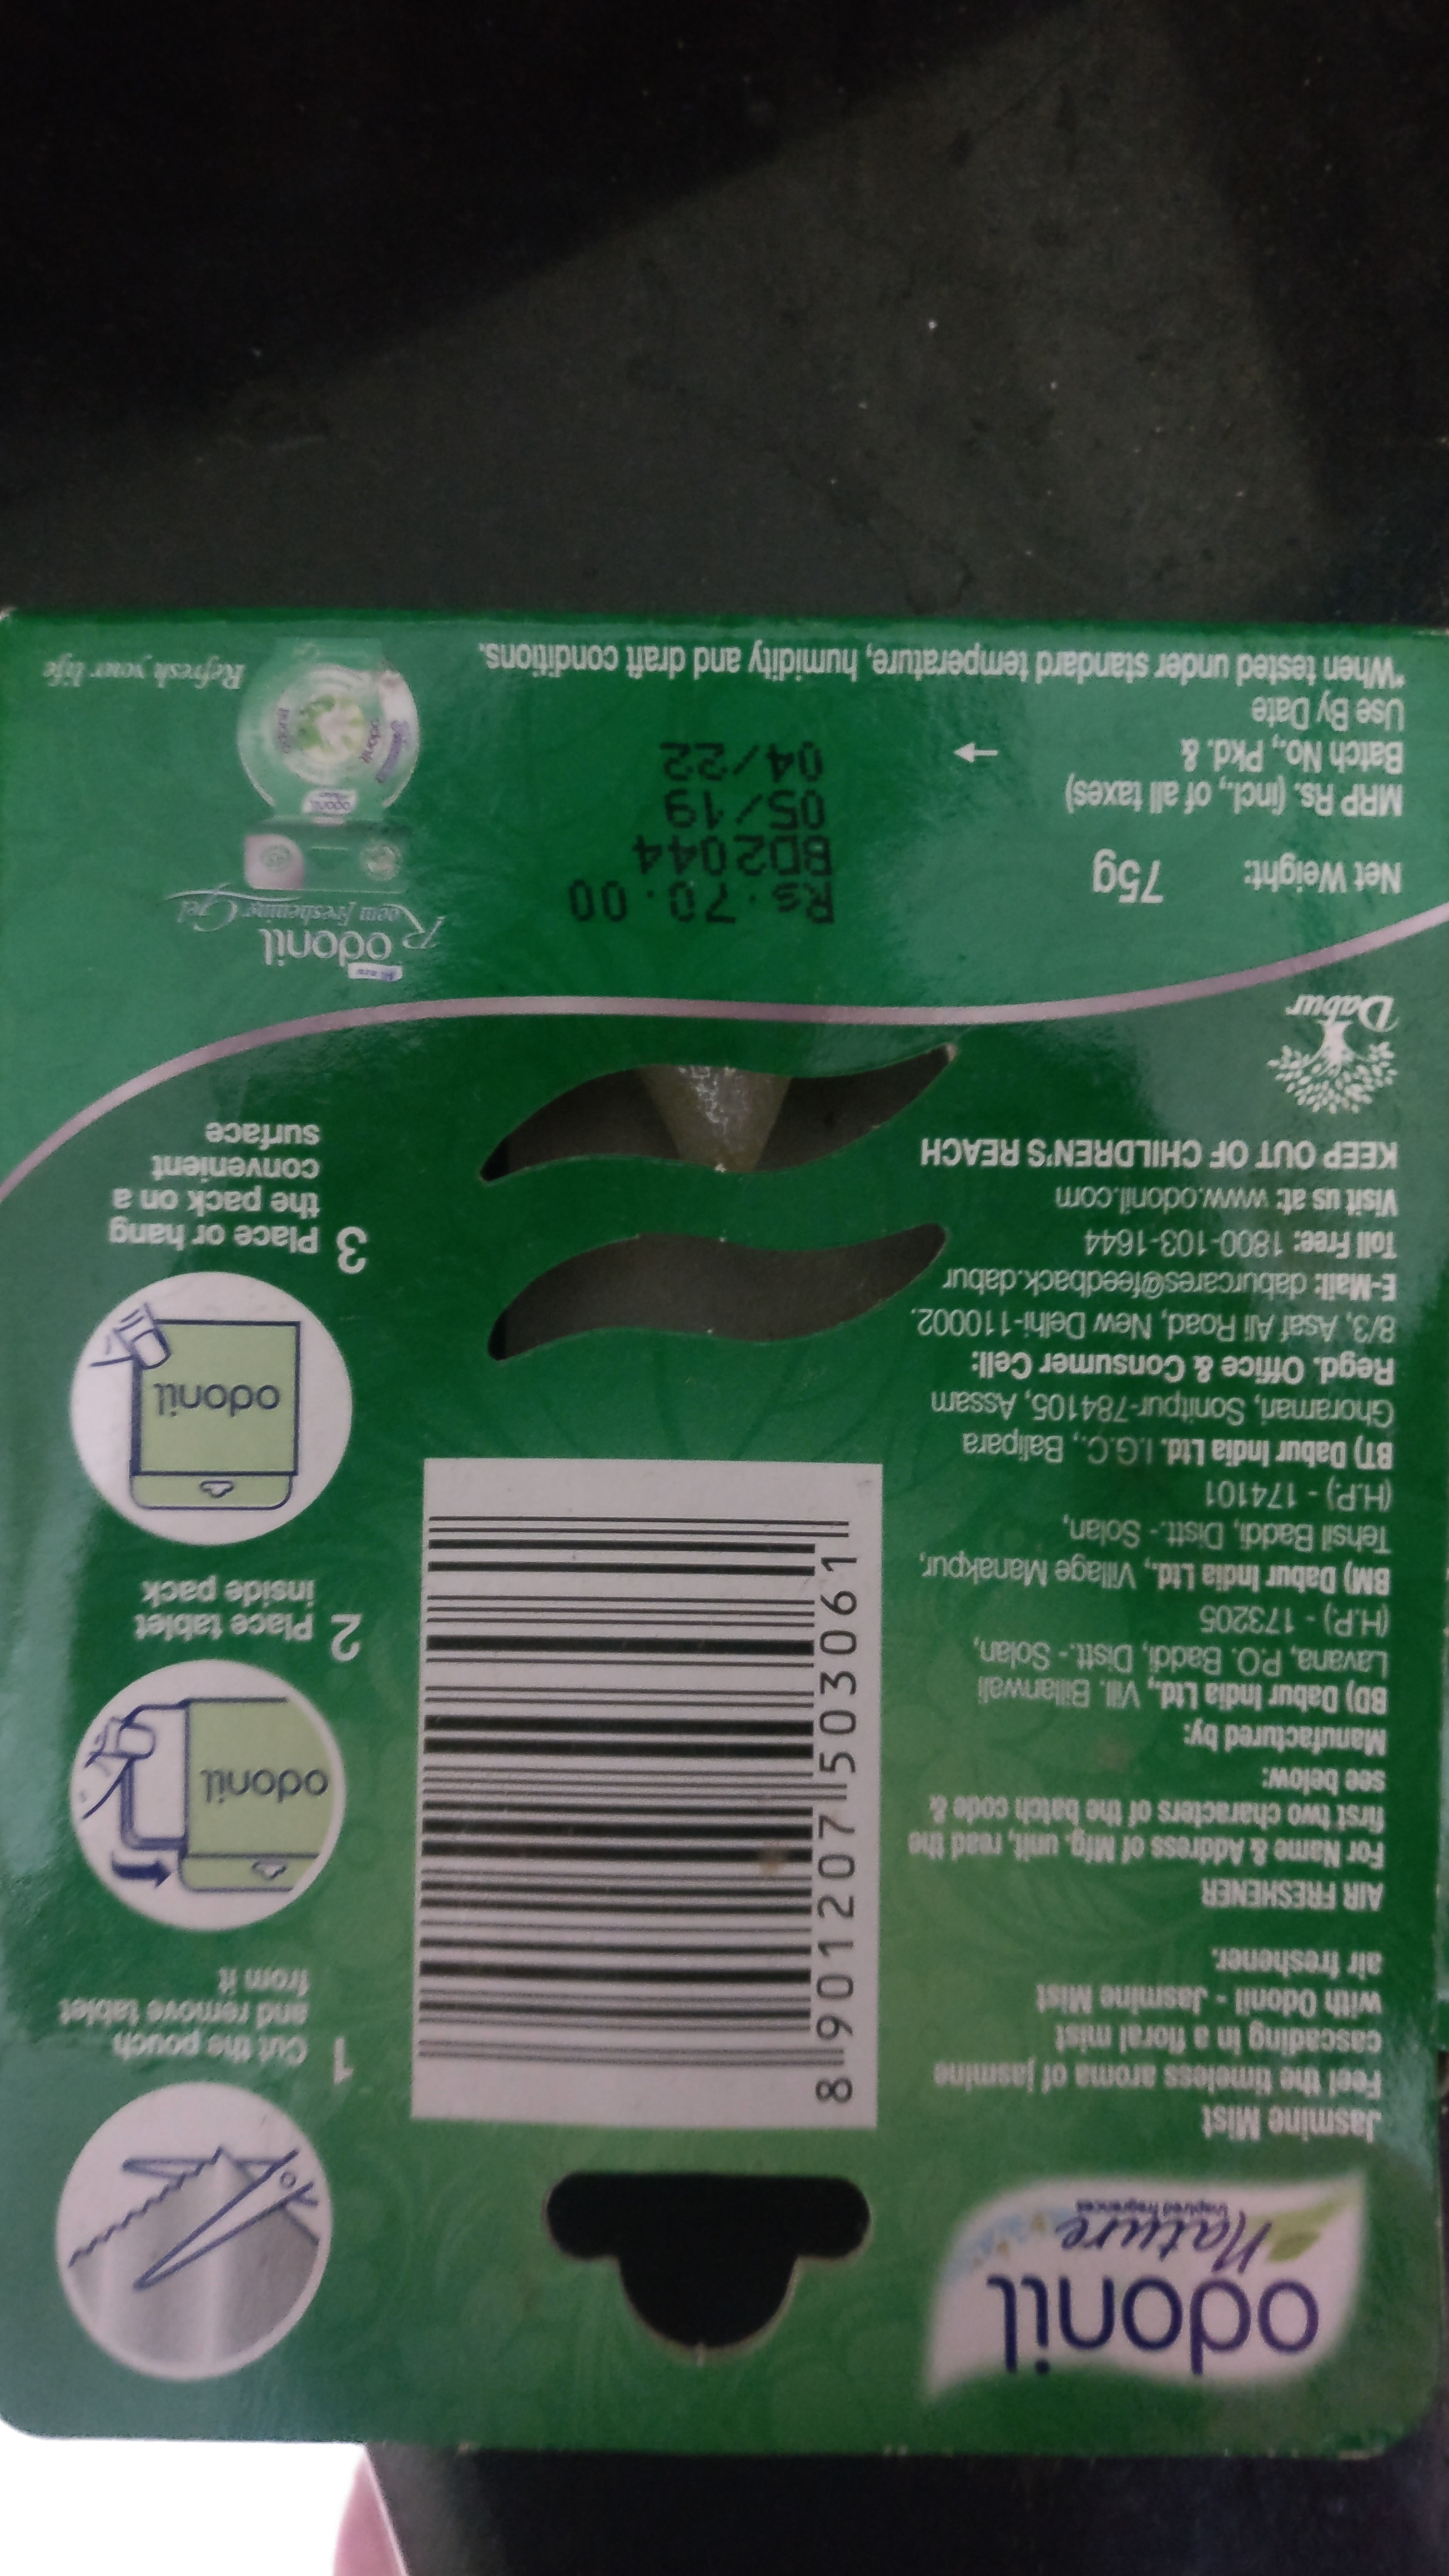barcode: (423, 1460, 886, 2143)
